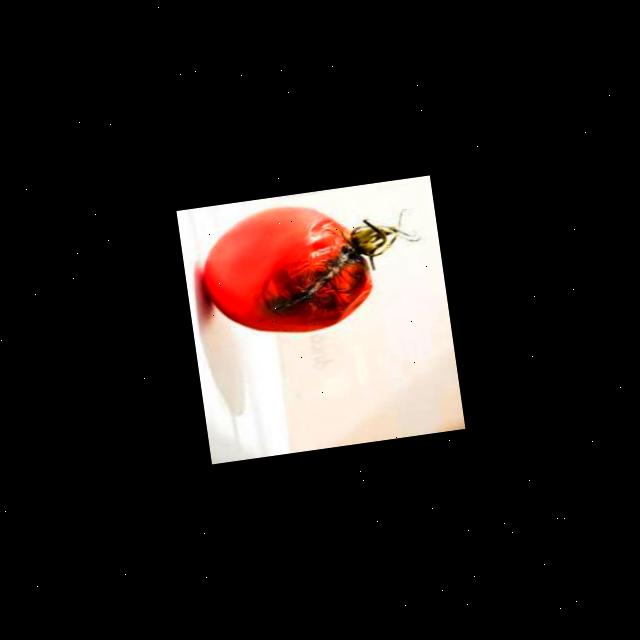tomato: (182, 190, 402, 354)
